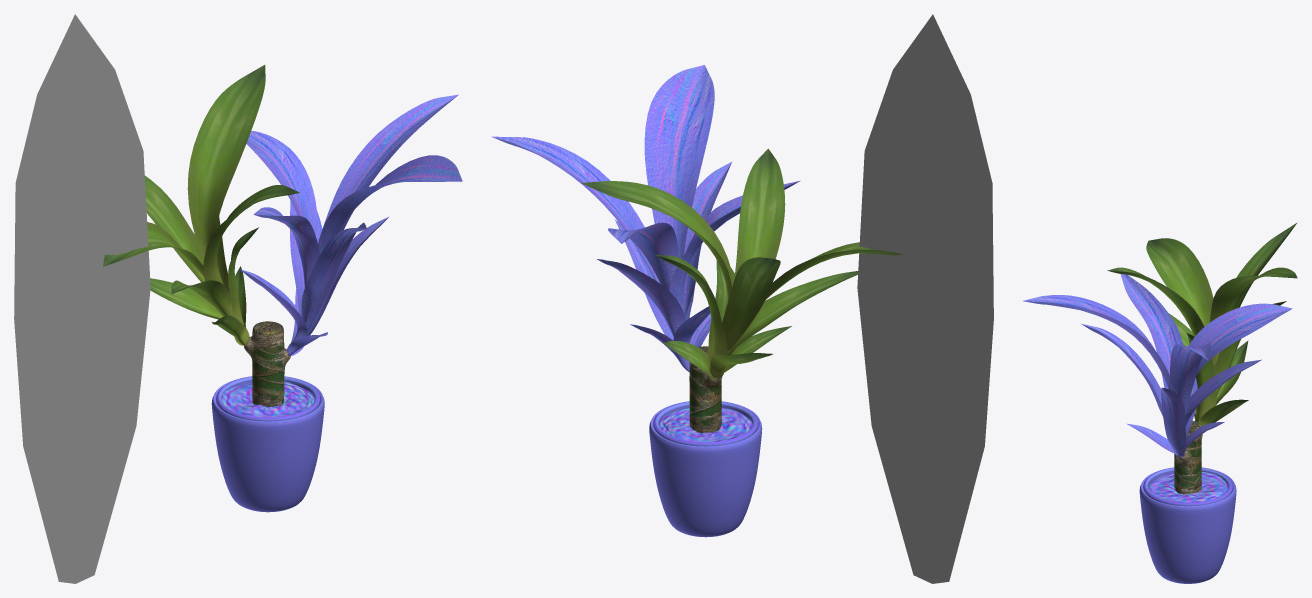
File: indoor_plant_02.obj
3 views of the same model, side by side, from view 1: azimuth 30°, elevation 25°; view 2: azimuth 150°, elevation 25°; view 3: azimuth 270°, elevation 25° (orthographic). The views are drawn at different scales.
Parts seen in each view (by area): view 1: Plane_Plane.001, indoor_plant_02; view 2: Plane_Plane.001, indoor_plant_02; view 3: indoor_plant_02.
Part boxes in pixels (box(x1,y1,x2,y2)): Plane_Plane.001: box(14, 14, 150, 583); indoor_plant_02: box(103, 65, 462, 512); Plane_Plane.001: box(857, 14, 993, 583); indoor_plant_02: box(491, 65, 902, 537); indoor_plant_02: box(1023, 222, 1297, 583).
Bounding box in the file's own units: 8.26 × 9.49 × 4.86.
6 materials, 5 textured.
